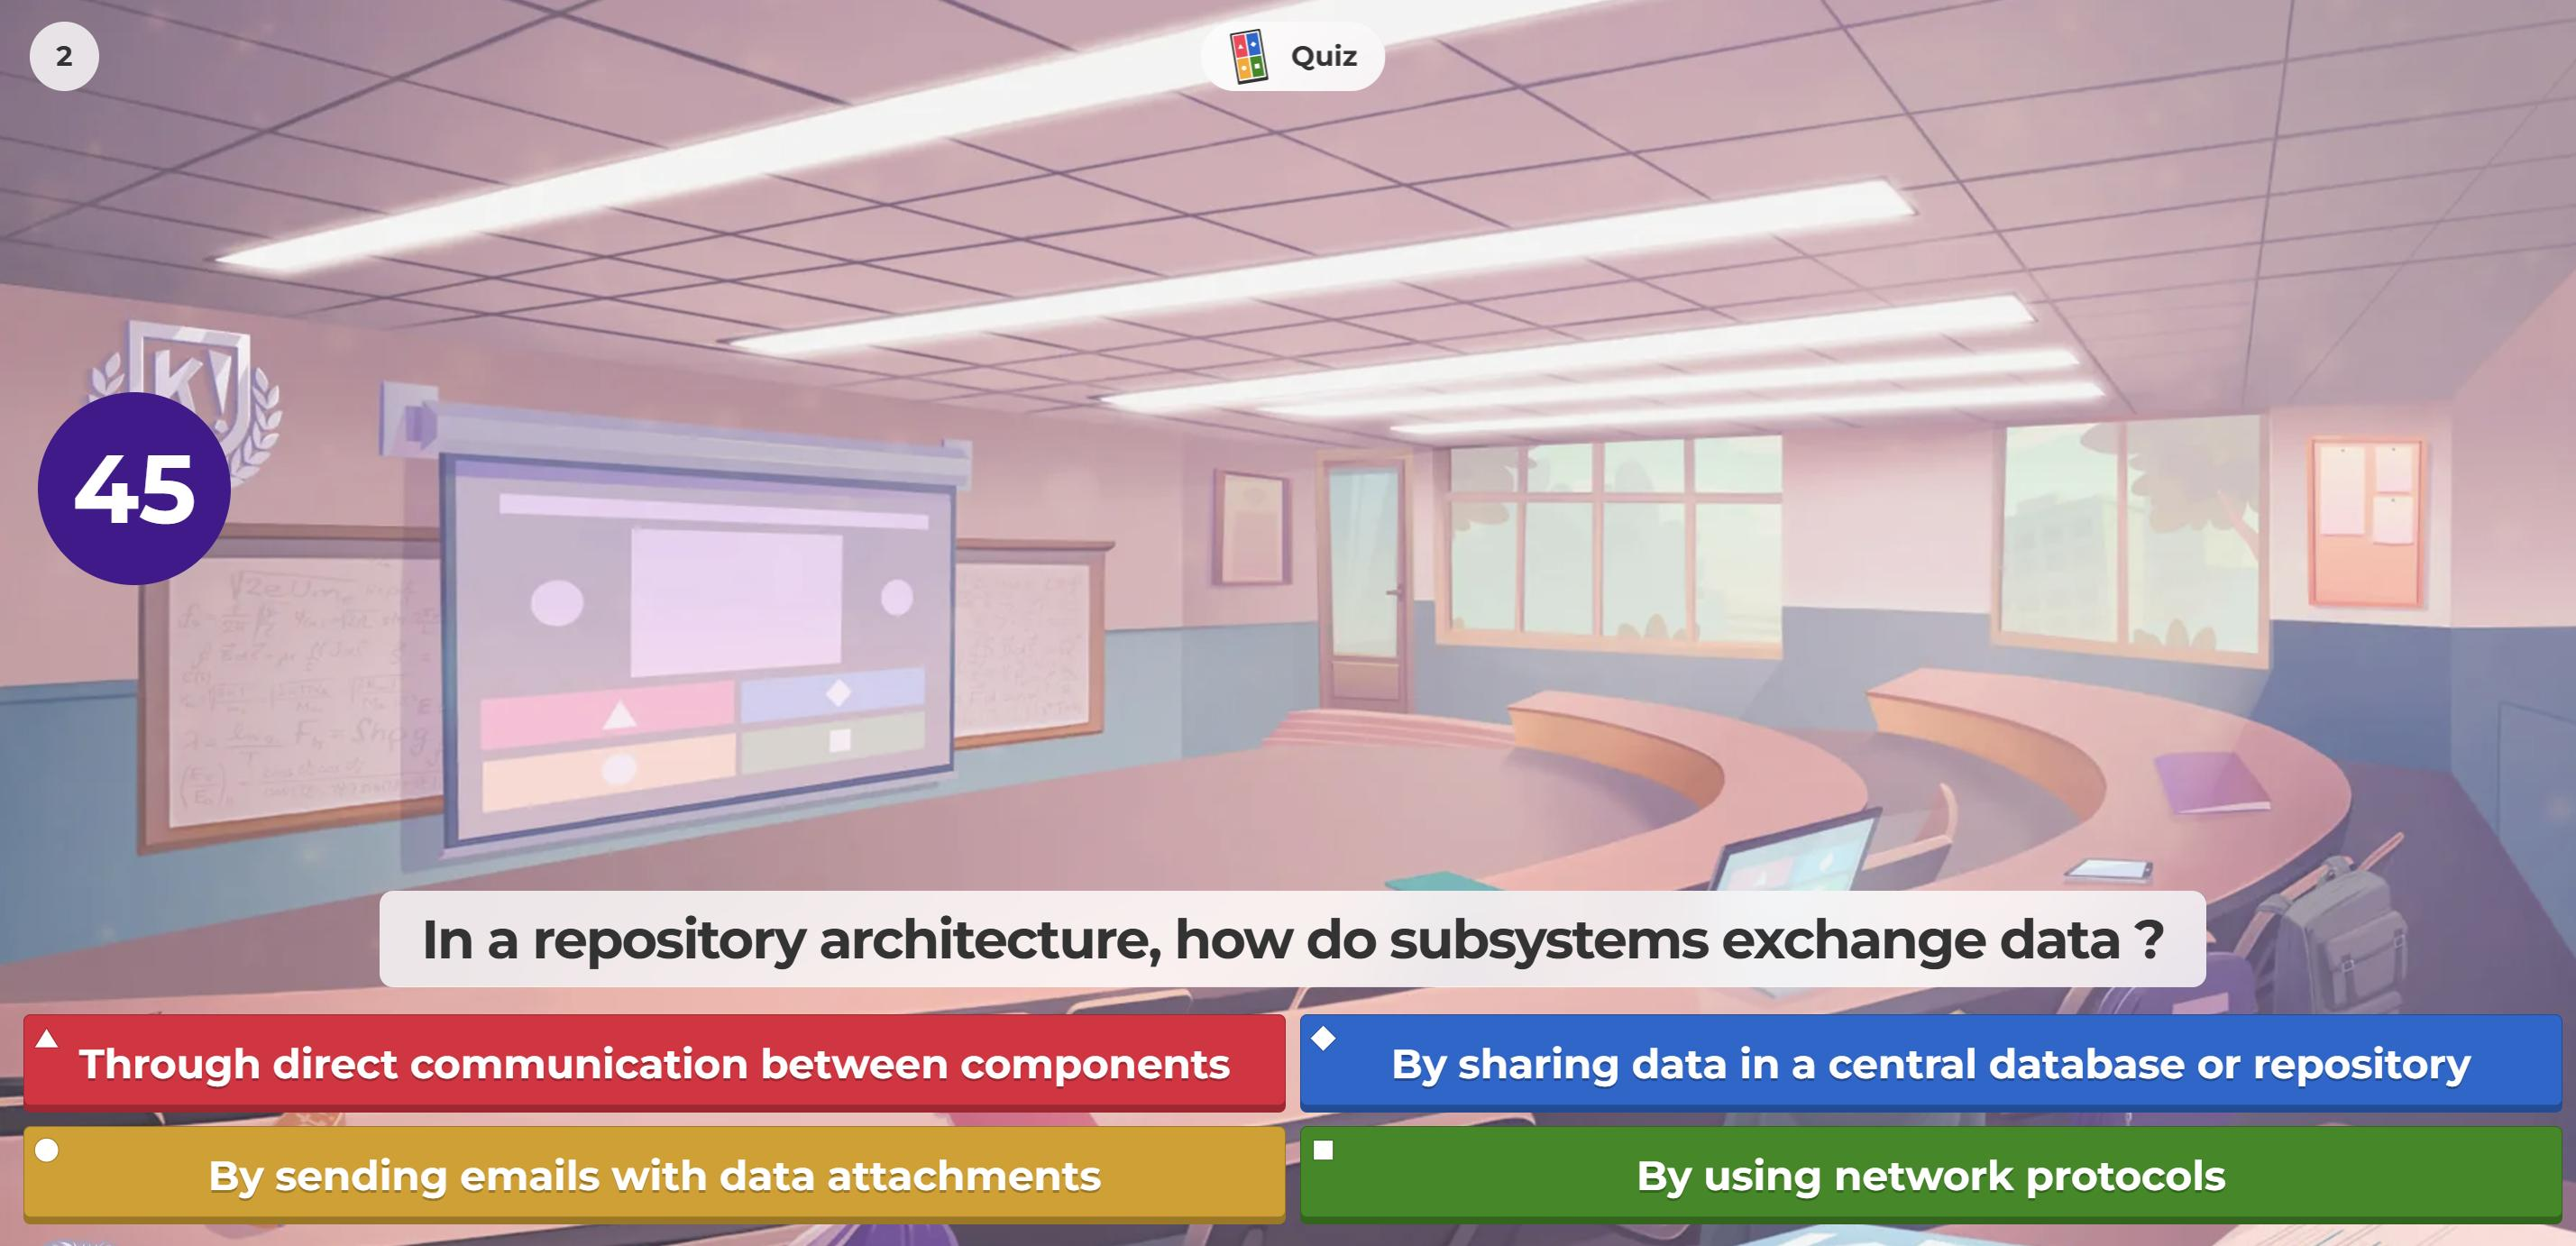answer_blue: (1301, 1018, 2555, 1105)
answer_green: (1304, 1131, 2555, 1211)
answer_red: (33, 1019, 1278, 1105)
answer_yellow: (26, 1123, 1278, 1220)
question_box: (384, 893, 2205, 985)
